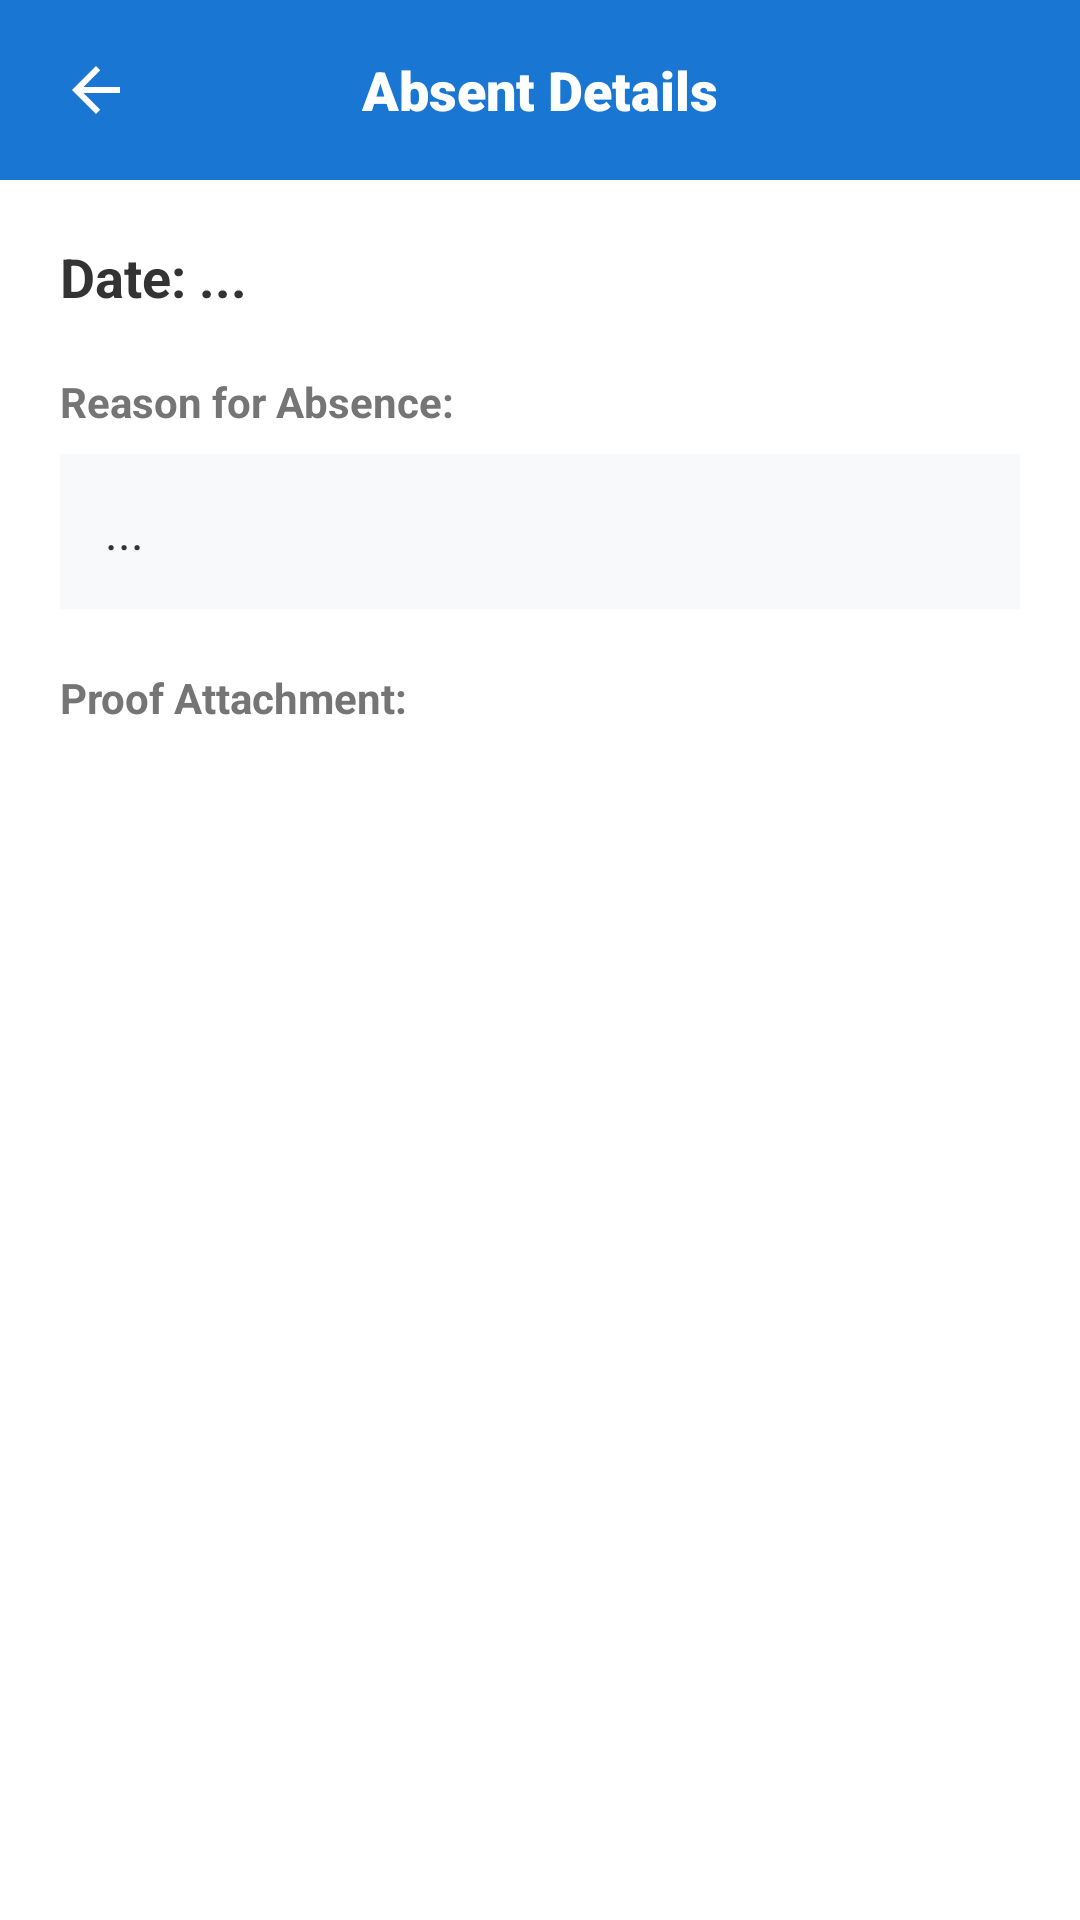

Where to tap for icons on this 1080px×1920px app screen, as [x,y]:
arrow back: [96,90]
